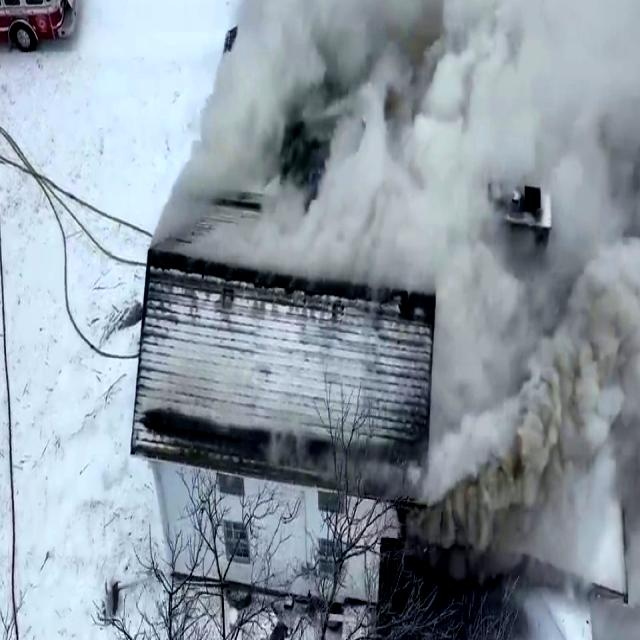smoke: (322, 0, 640, 235)
